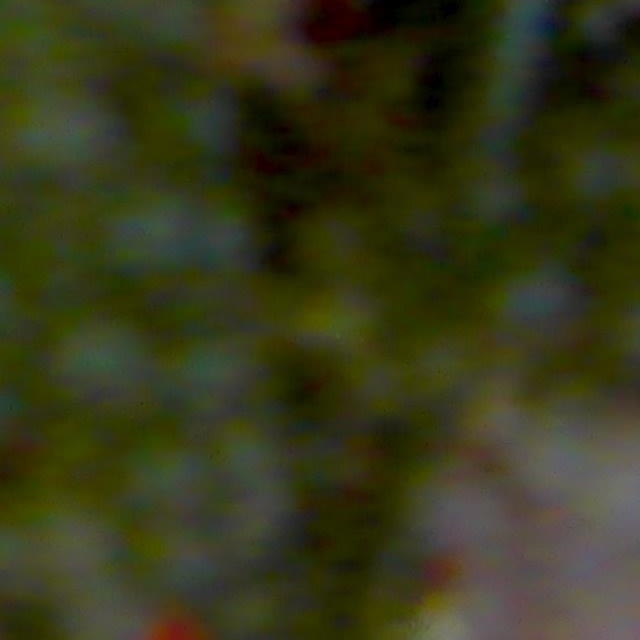SeaGrape: (11, 84, 116, 177), (108, 186, 199, 275), (55, 313, 149, 399), (487, 258, 579, 343), (173, 332, 260, 411), (129, 438, 209, 516), (170, 87, 243, 159), (214, 420, 284, 490)
